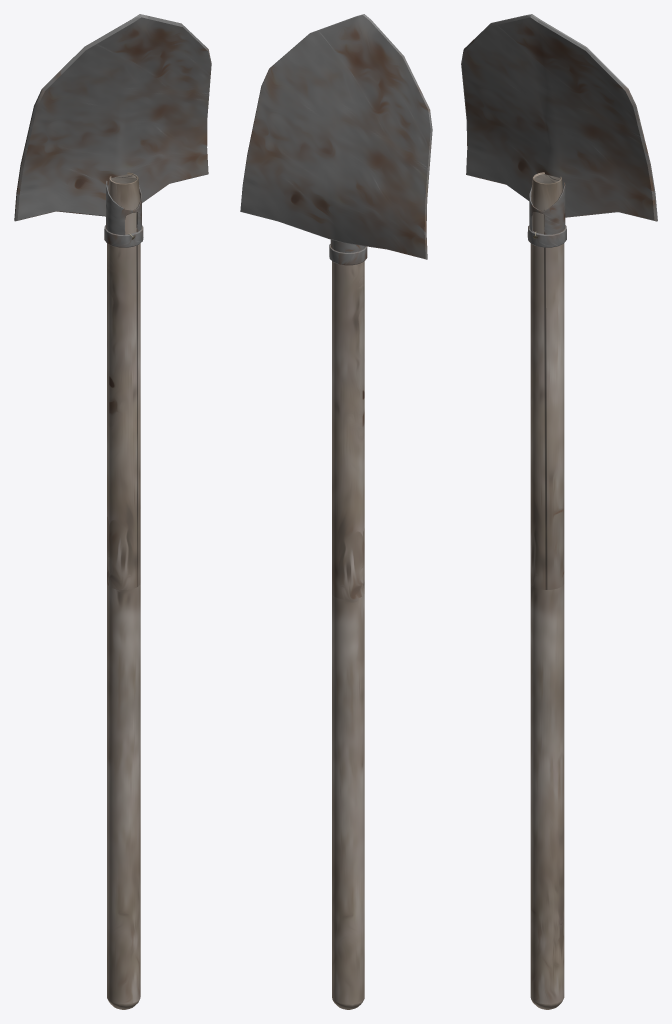
The model's file is Shovel.fbx.
The picture shows the model from 3 angles, left to right: view 1: azimuth 30°, elevation 25°; view 2: azimuth 150°, elevation 25°; view 3: azimuth 330°, elevation 25°; orthographic projection. The views are drawn at different scales.
Parts seen in each view (by area): view 1: Shovel; view 2: Shovel; view 3: Shovel.
Boxes of the visible parts, box(x1,y1,x2,y2) form: Shovel: box(14, 14, 211, 1009); Shovel: box(240, 14, 432, 1009); Shovel: box(461, 14, 657, 1009).
Size of the model in its own units: 29.22 by 146 by 8.52.
